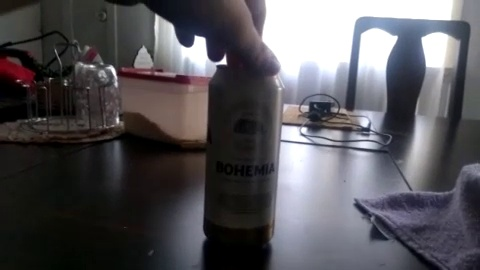bohemia: (196, 60, 290, 244)
